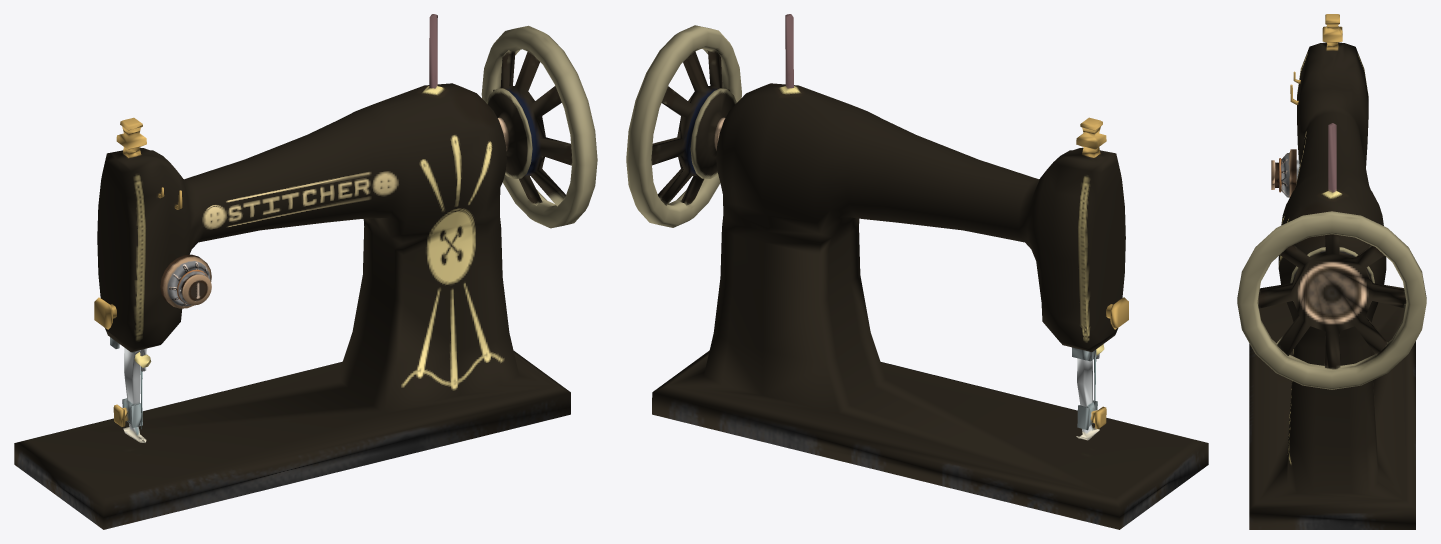
The model's file is may-khau.glb.
3 renders of one model, left to right at view 1: azimuth 30°, elevation 25°; view 2: azimuth 150°, elevation 25°; view 3: azimuth 270°, elevation 25°, orthographic. The views are drawn at different scales.
Visible parts, largest first — view 1: may-khau; view 2: may-khau; view 3: may-khau.
Boxes of the visible parts, x1=… form: may-khau: x1=14, y1=14, x2=597, y2=529; may-khau: x1=626, y1=14, x2=1208, y2=529; may-khau: x1=1237, y1=14, x2=1426, y2=529.
Size of the model in its own units: 2.1 by 1.6 by 0.7524.
1 material, 1 textured.
